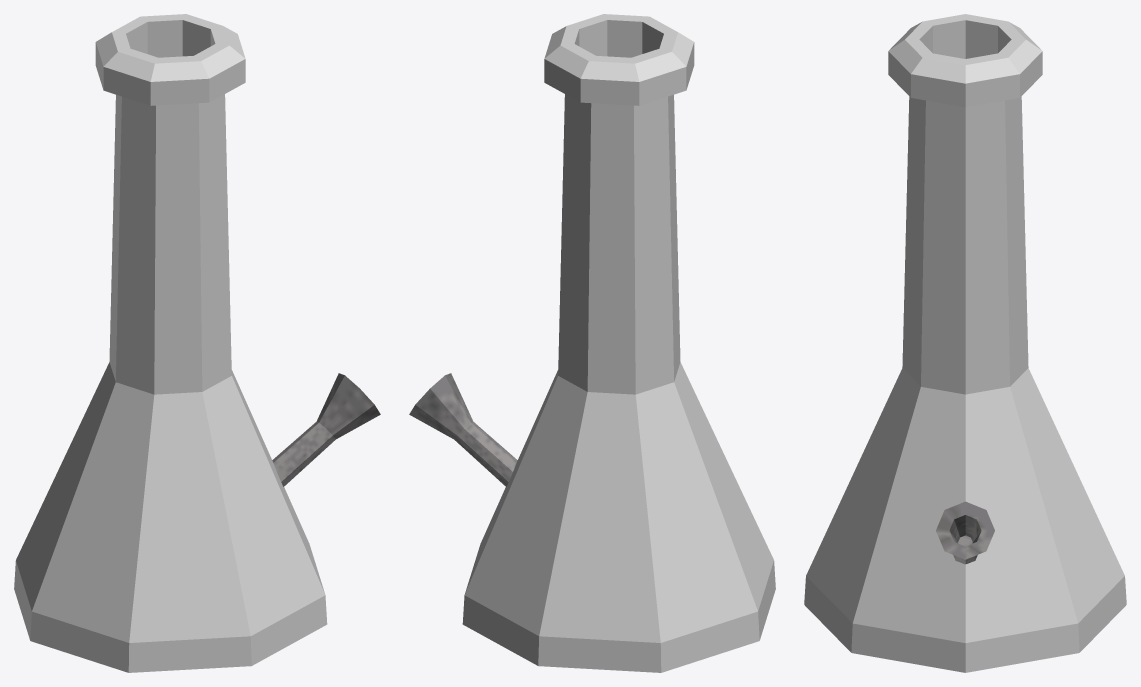
Rendered from SM_Dungeon_Bong_Beaker.fbx.
The picture shows the model from 3 angles, left to right: view 1: azimuth 30°, elevation 25°; view 2: azimuth 150°, elevation 25°; view 3: azimuth 270°, elevation 25°; orthographic projection.
Parts seen in each view (by area): view 1: Deco_Bong_Beaker; view 2: Deco_Bong_Beaker; view 3: Deco_Bong_Beaker.
Part boxes in pixels (bbox=[...]): Deco_Bong_Beaker: bbox=[14, 14, 380, 672]; Deco_Bong_Beaker: bbox=[409, 14, 775, 672]; Deco_Bong_Beaker: bbox=[804, 14, 1126, 672].
Bounding box in the file's own units: 20.2 × 31.82 × 16.46.
